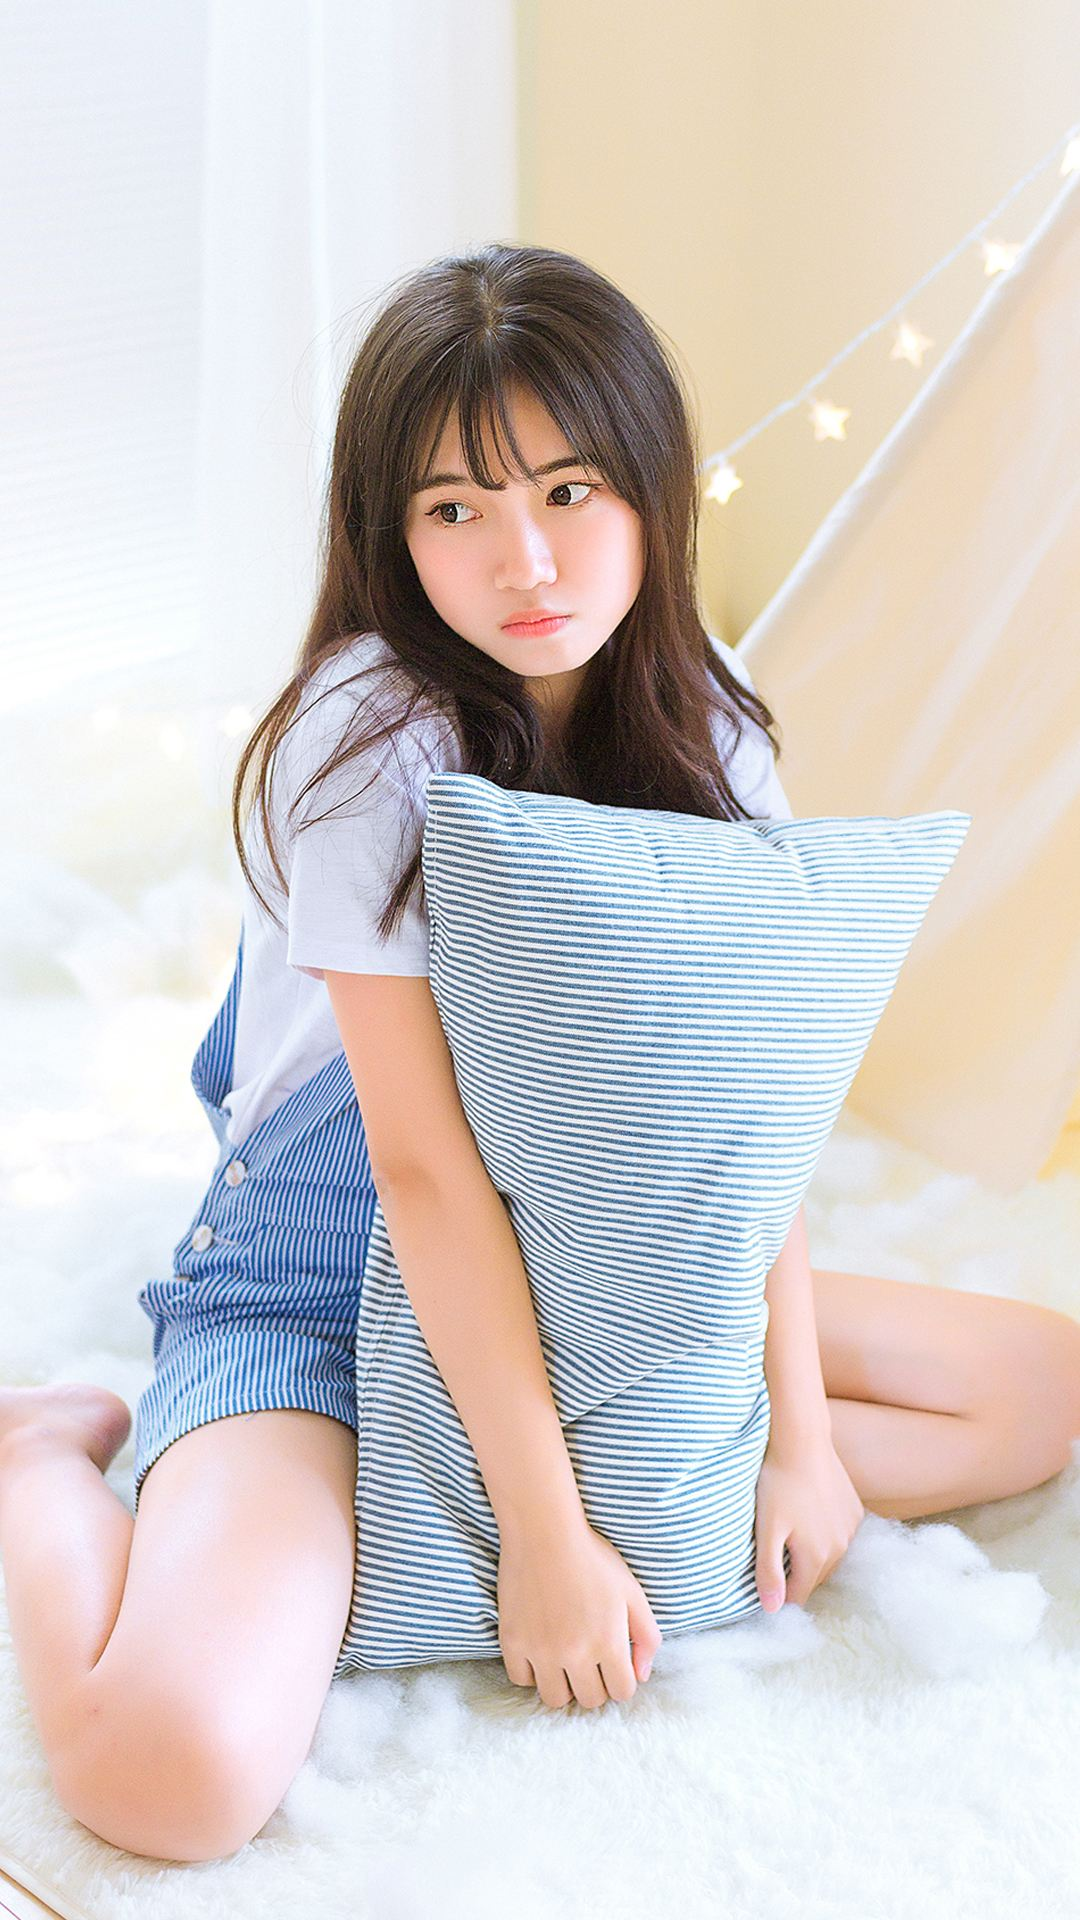person: (222, 261, 1059, 1692)
